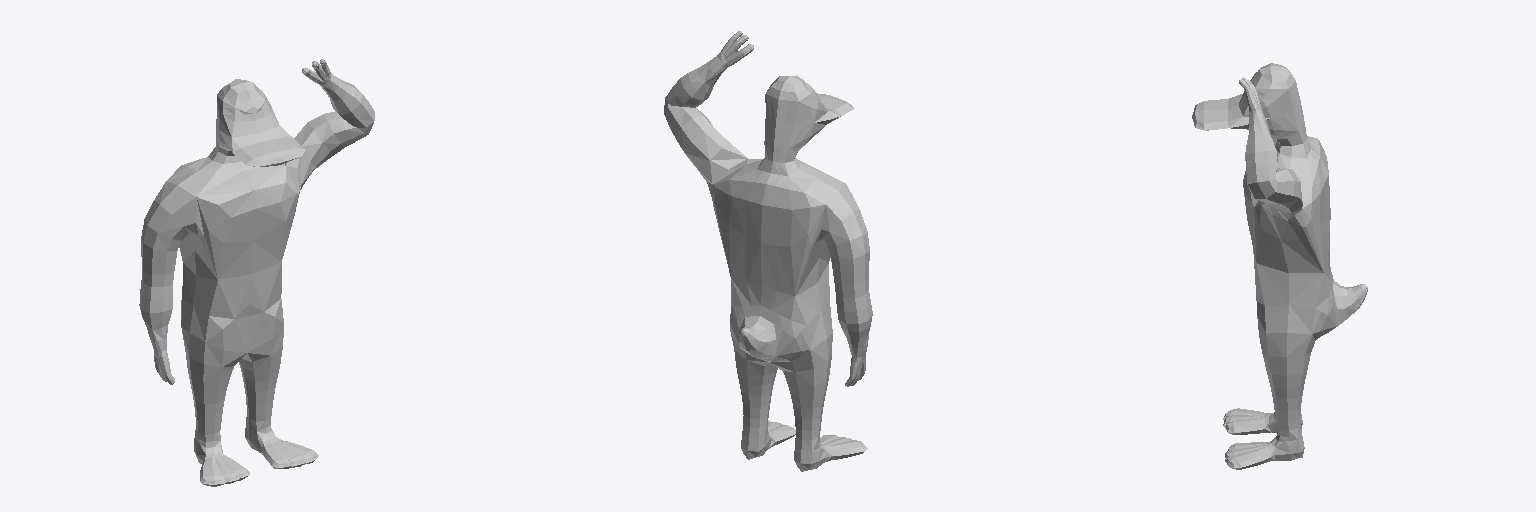
Rendered from canard_qui_salue_000009.obj.
The picture shows the model from 3 angles: view 1: azimuth 30°, elevation 25°; view 2: azimuth 150°, elevation 25°; view 3: azimuth 270°, elevation 25°; orthographic projection.
Parts seen in each view (by area): view 1: Cube; view 2: Cube; view 3: Cube.
Boxes of the visible parts, x1=… form: Cube: x1=139, y1=59, x2=374, y2=486; Cube: x1=664, y1=31, x2=872, y2=471; Cube: x1=1192, y1=63, x2=1367, y2=469.
Size of the model in its own units: 1.66 by 2.92 by 1.17.